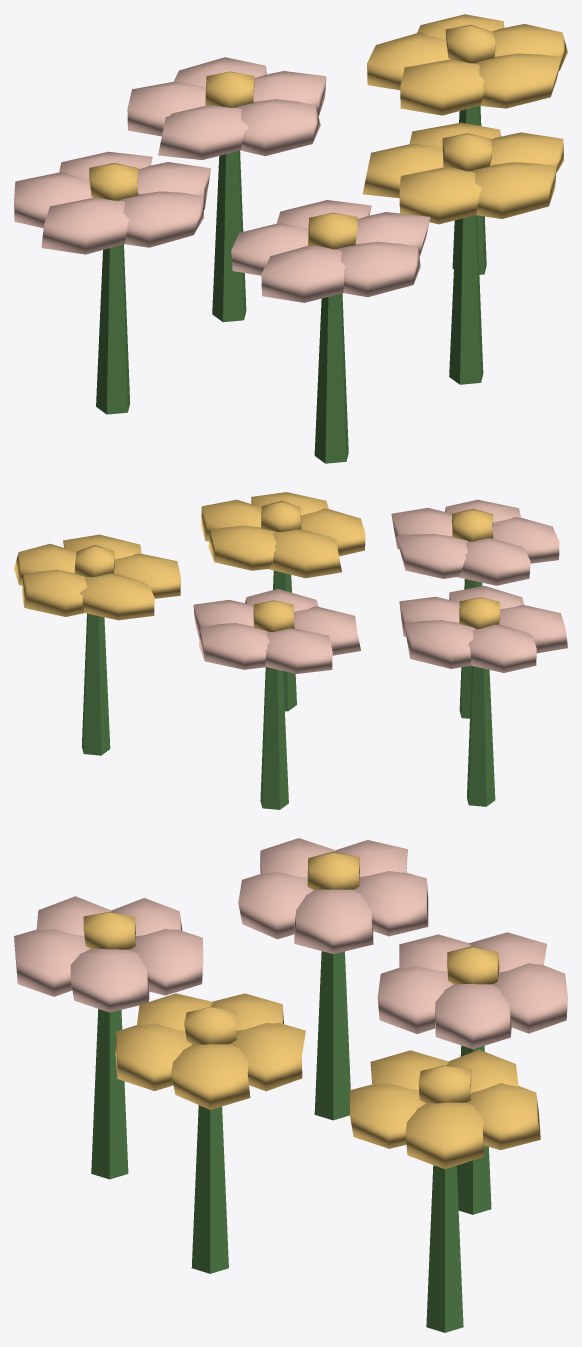
The model's file is flower_patch.glb.
3 views of the same model, one above another, from view 1: azimuth 30°, elevation 25°; view 2: azimuth 150°, elevation 25°; view 3: azimuth 270°, elevation 25° (orthographic). The views are drawn at different scales.
Parts seen in each view (by area): view 1: flower_patch; view 2: flower_patch; view 3: flower_patch.
Boxes of the visible parts, x1,y1,x2,y2 form: flower_patch: [14, 14, 567, 463]; flower_patch: [14, 492, 567, 809]; flower_patch: [14, 838, 567, 1332].
Size of the model in its own units: 1.31 by 0.51 by 0.9918.
